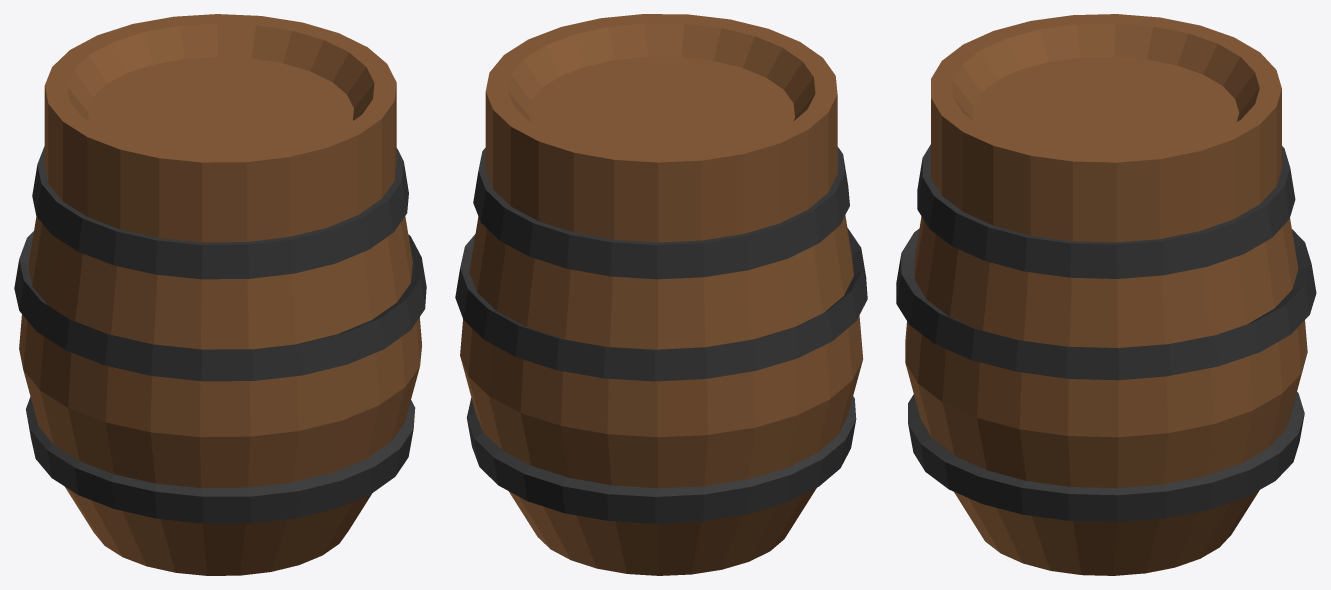
File: WoodenBarrelProp.fbx
The picture shows the model from 3 angles, left to right: view 1: azimuth 30°, elevation 25°; view 2: azimuth 150°, elevation 25°; view 3: azimuth 270°, elevation 25°; orthographic projection.
Parts seen in each view (by area): view 1: WoodenBarrelProp; view 2: WoodenBarrelProp; view 3: WoodenBarrelProp.
Boxes of the visible parts, x1=… form: WoodenBarrelProp: x1=14, y1=14, x2=426, y2=575; WoodenBarrelProp: x1=455, y1=14, x2=867, y2=575; WoodenBarrelProp: x1=896, y1=14, x2=1316, y2=575.
Bounding box in the file's own units: 232 × 271 × 238.
